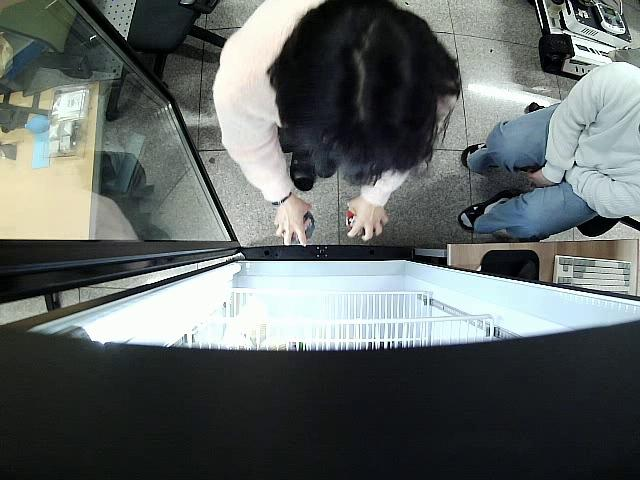00_hand: (273, 199, 313, 247), (347, 199, 387, 241)
08_buldak_S: (279, 209, 315, 243), (346, 211, 378, 239)
